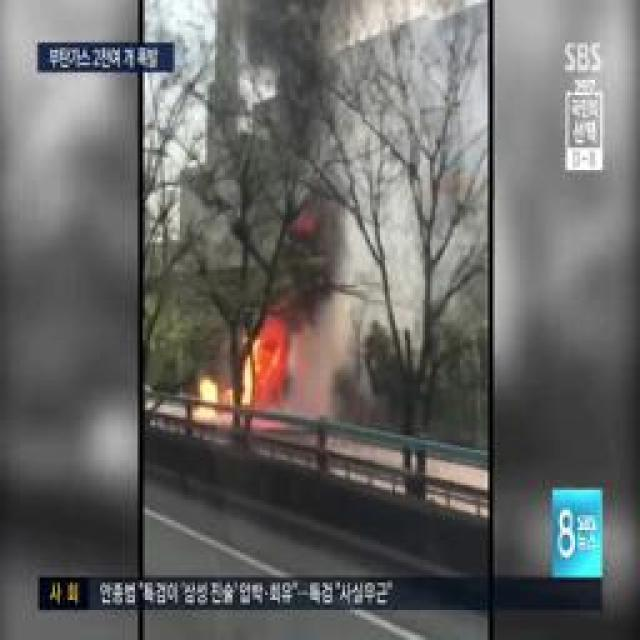Fire: (244, 320, 296, 419), (197, 381, 228, 431)
